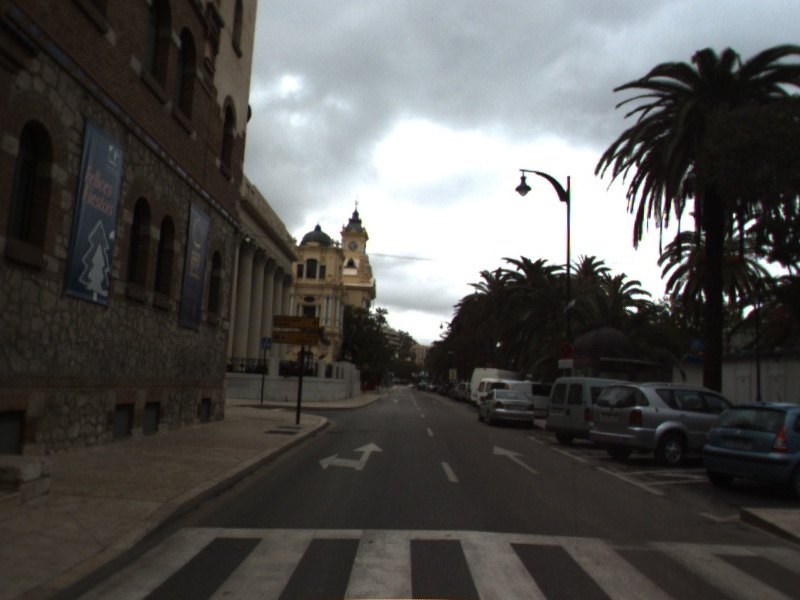STRAIGHT: (491, 442, 542, 476)
STRAIGHT_LEFT: (316, 440, 386, 472)
